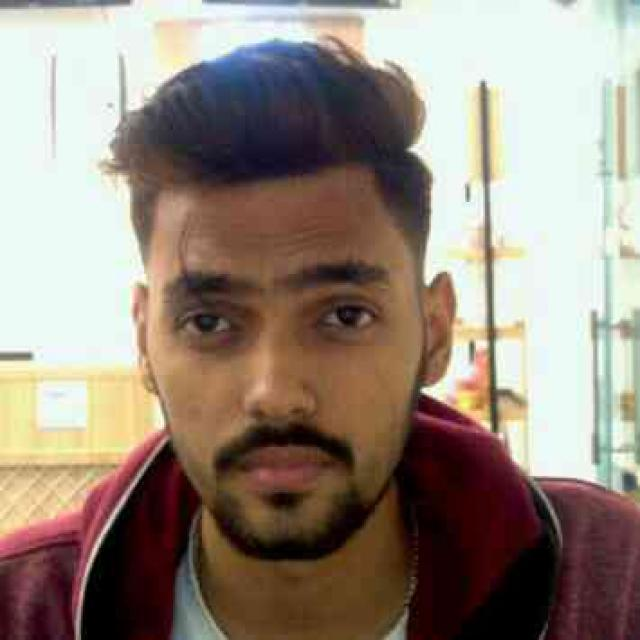puffy_eyes: (209, 302, 265, 354), (316, 326, 380, 351)
